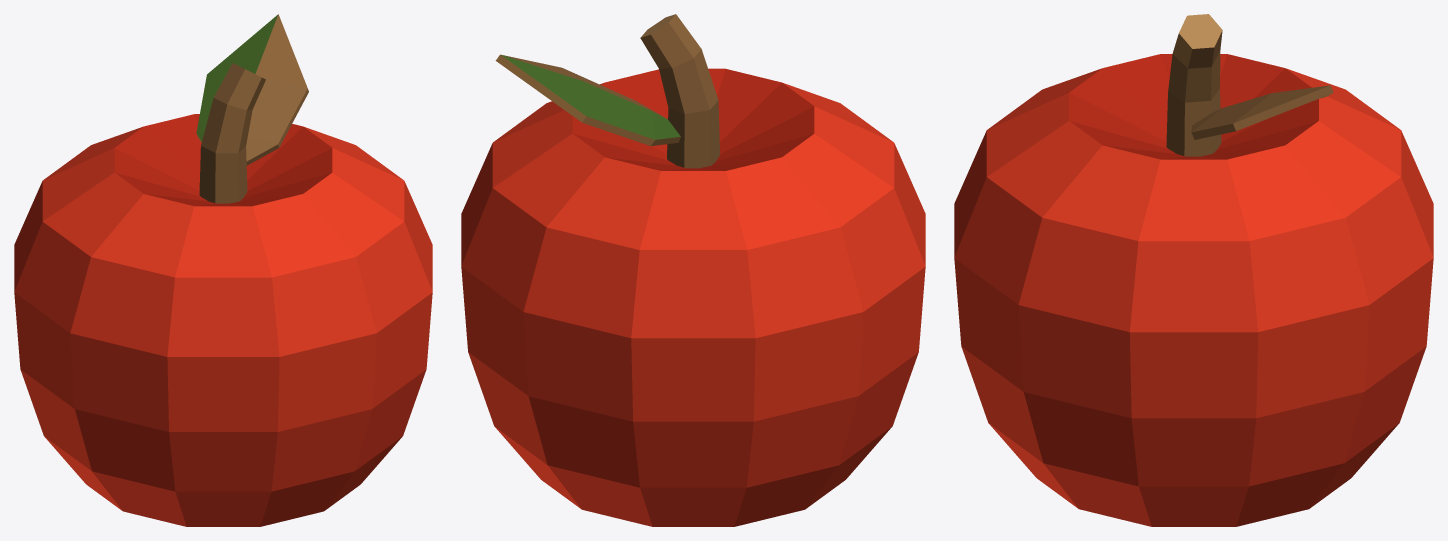
The model's file is FMS_Fruit_Apple.fbx.
The picture shows the model from 3 angles, left to right: view 1: azimuth 30°, elevation 25°; view 2: azimuth 150°, elevation 25°; view 3: azimuth 270°, elevation 25°; orthographic projection. The views are drawn at different scales.
Visible parts, largest first — view 1: item_produce_apple; view 2: item_produce_apple; view 3: item_produce_apple.
Boxes of the visible parts, <box> form: item_produce_apple: <box>14,14,432,526</box>; item_produce_apple: <box>461,14,925,526</box>; item_produce_apple: <box>954,14,1433,526</box>.
Bounding box in the file's own units: 0.0927 × 0.1032 × 0.0927.
Materials: 1 (1 with a texture image).
